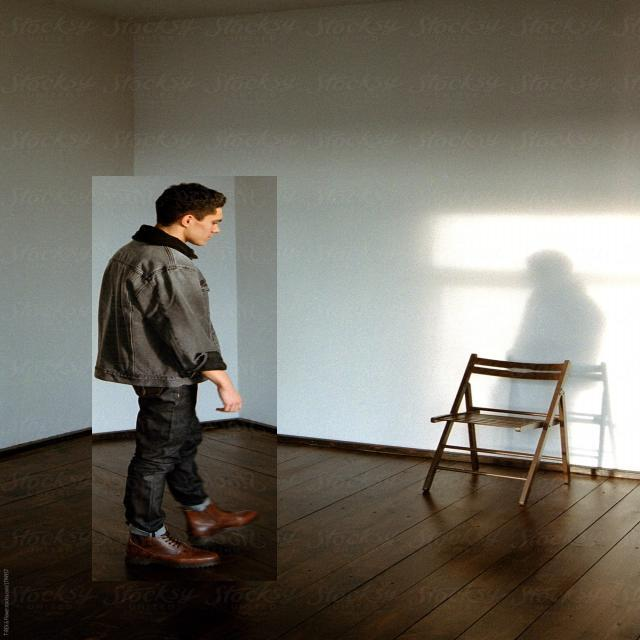NotFall: (86, 163, 265, 596)
